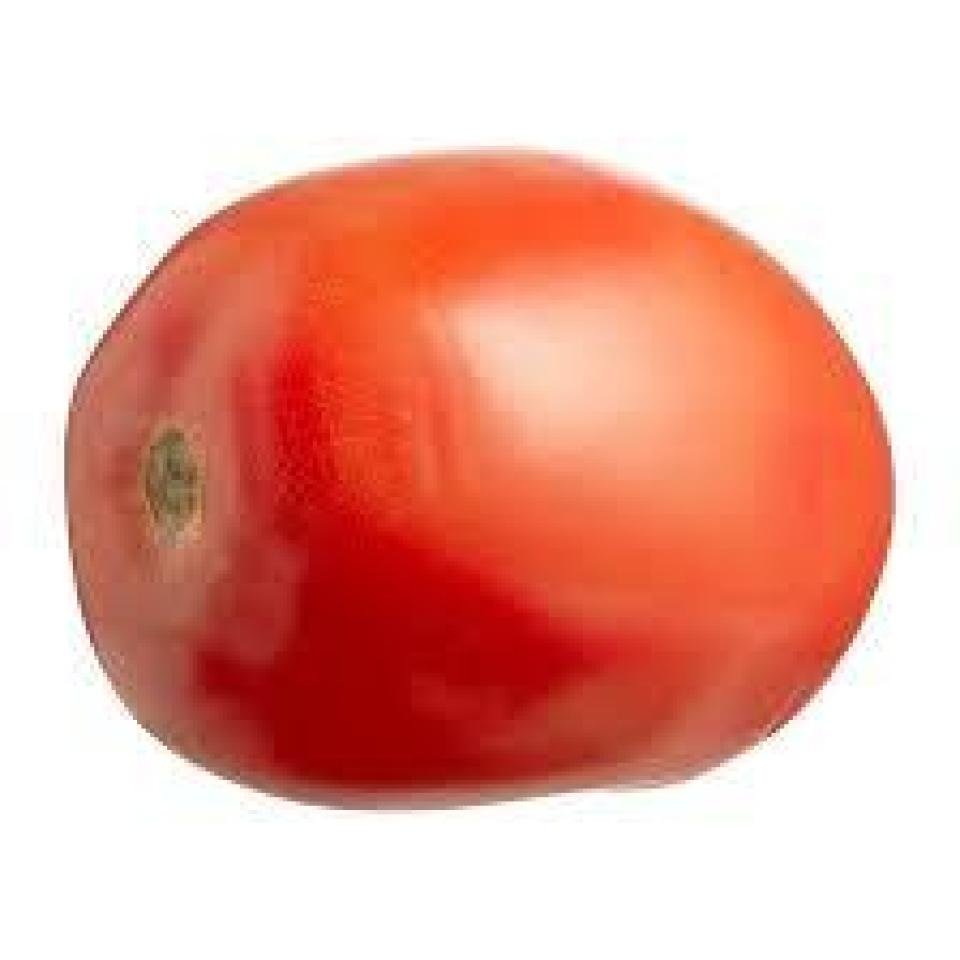Healthy: (45, 121, 899, 820)
